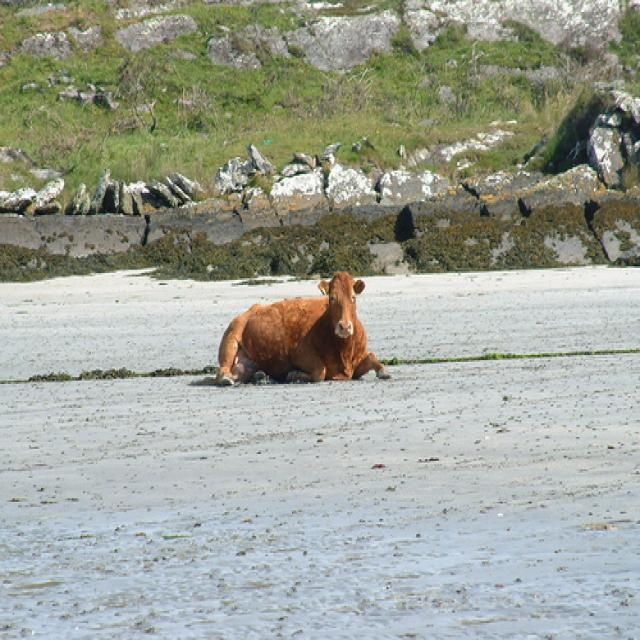cow: (214, 266, 390, 384)
